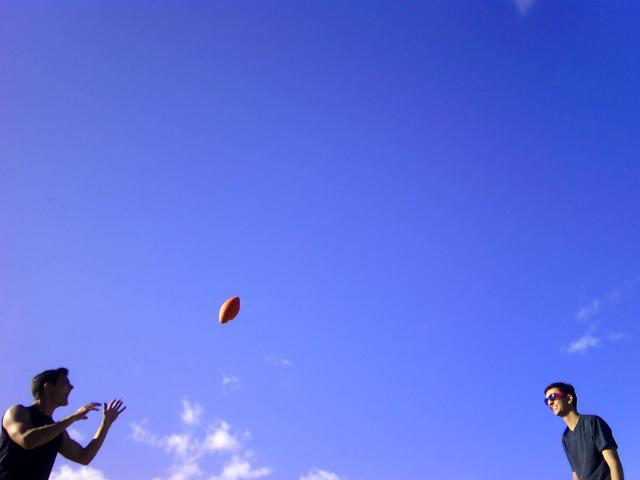football: (217, 295, 243, 325)
